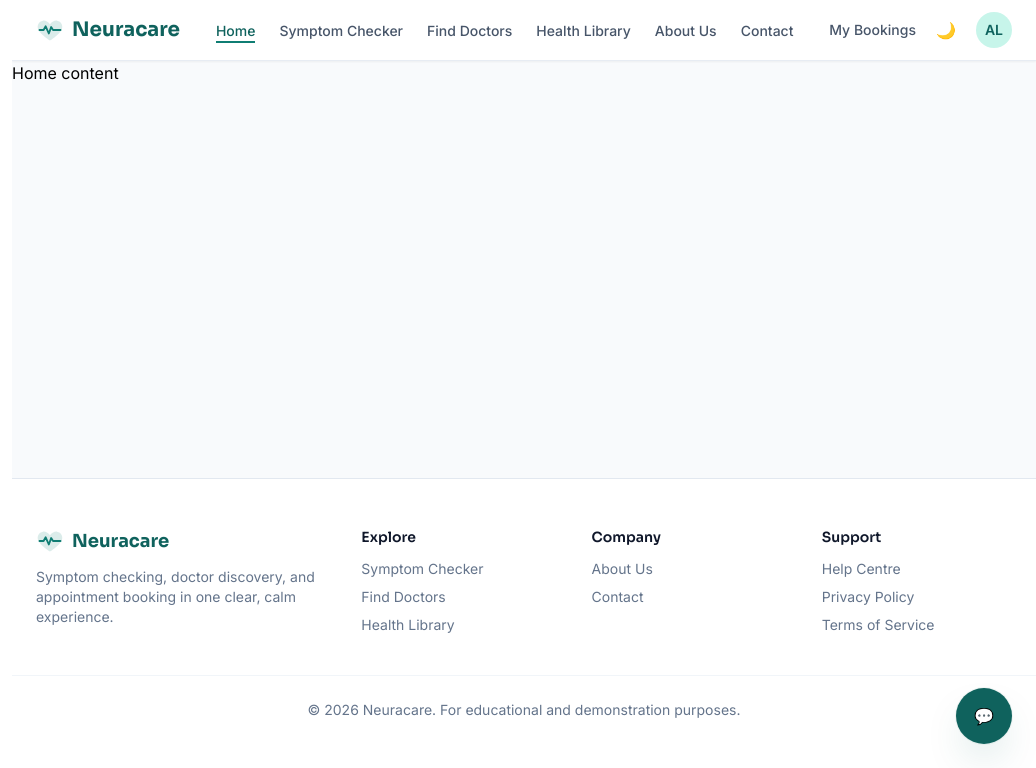
it: Layout › when authenticated › opens the account dropdown with profile, settings, and logout
Click the button with aria-label "account menu".
click(994, 30)  # box [976,12,1012,48]
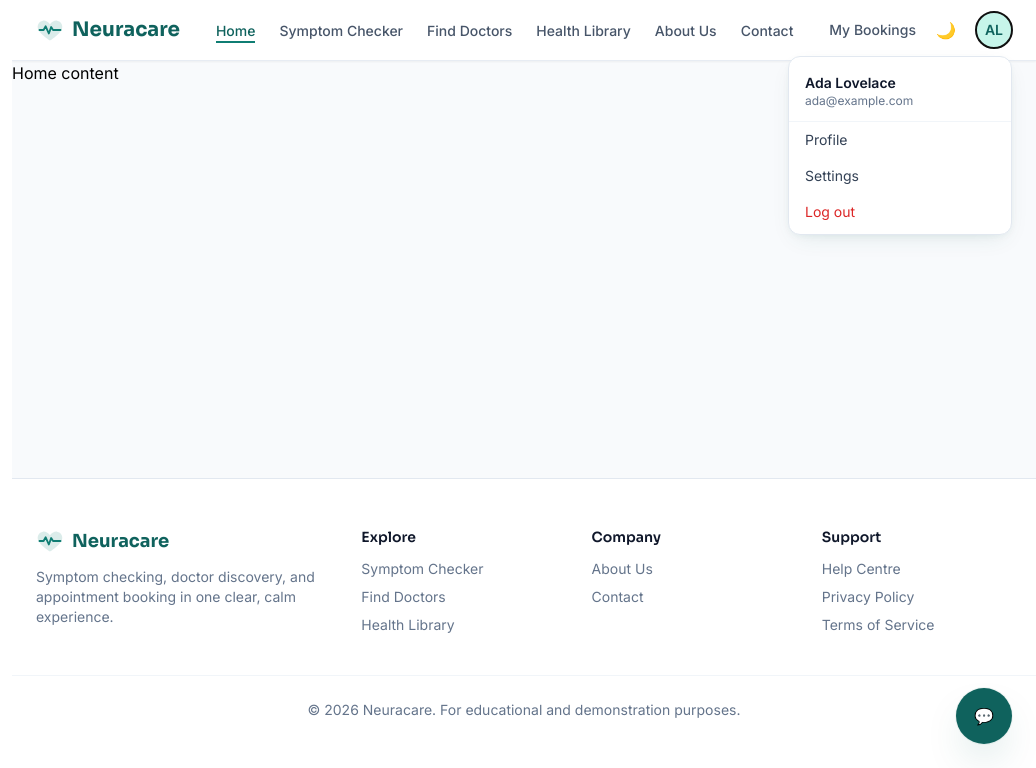
Check: the button with aria-label "account menu" is expanded, box [976,12,1012,48]
Check: the text "Ada Lovelace" is shown, box [805,74,896,91]
Check: the text "ada@example.com" is shown, box [805,93,913,108]
